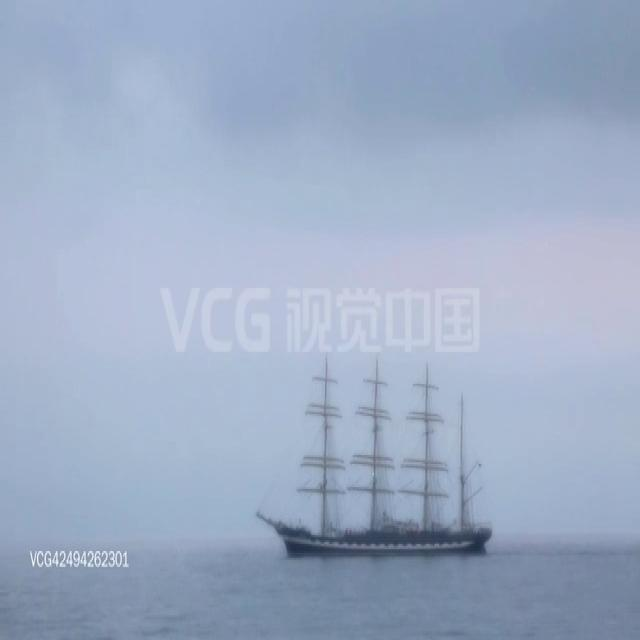sailboat: (254, 356, 494, 560)
